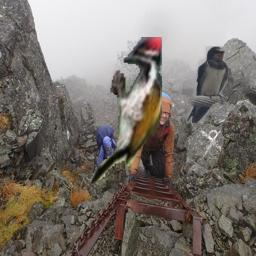Swallow: (186, 46, 228, 123)
Woodpecker: (89, 37, 162, 184)
